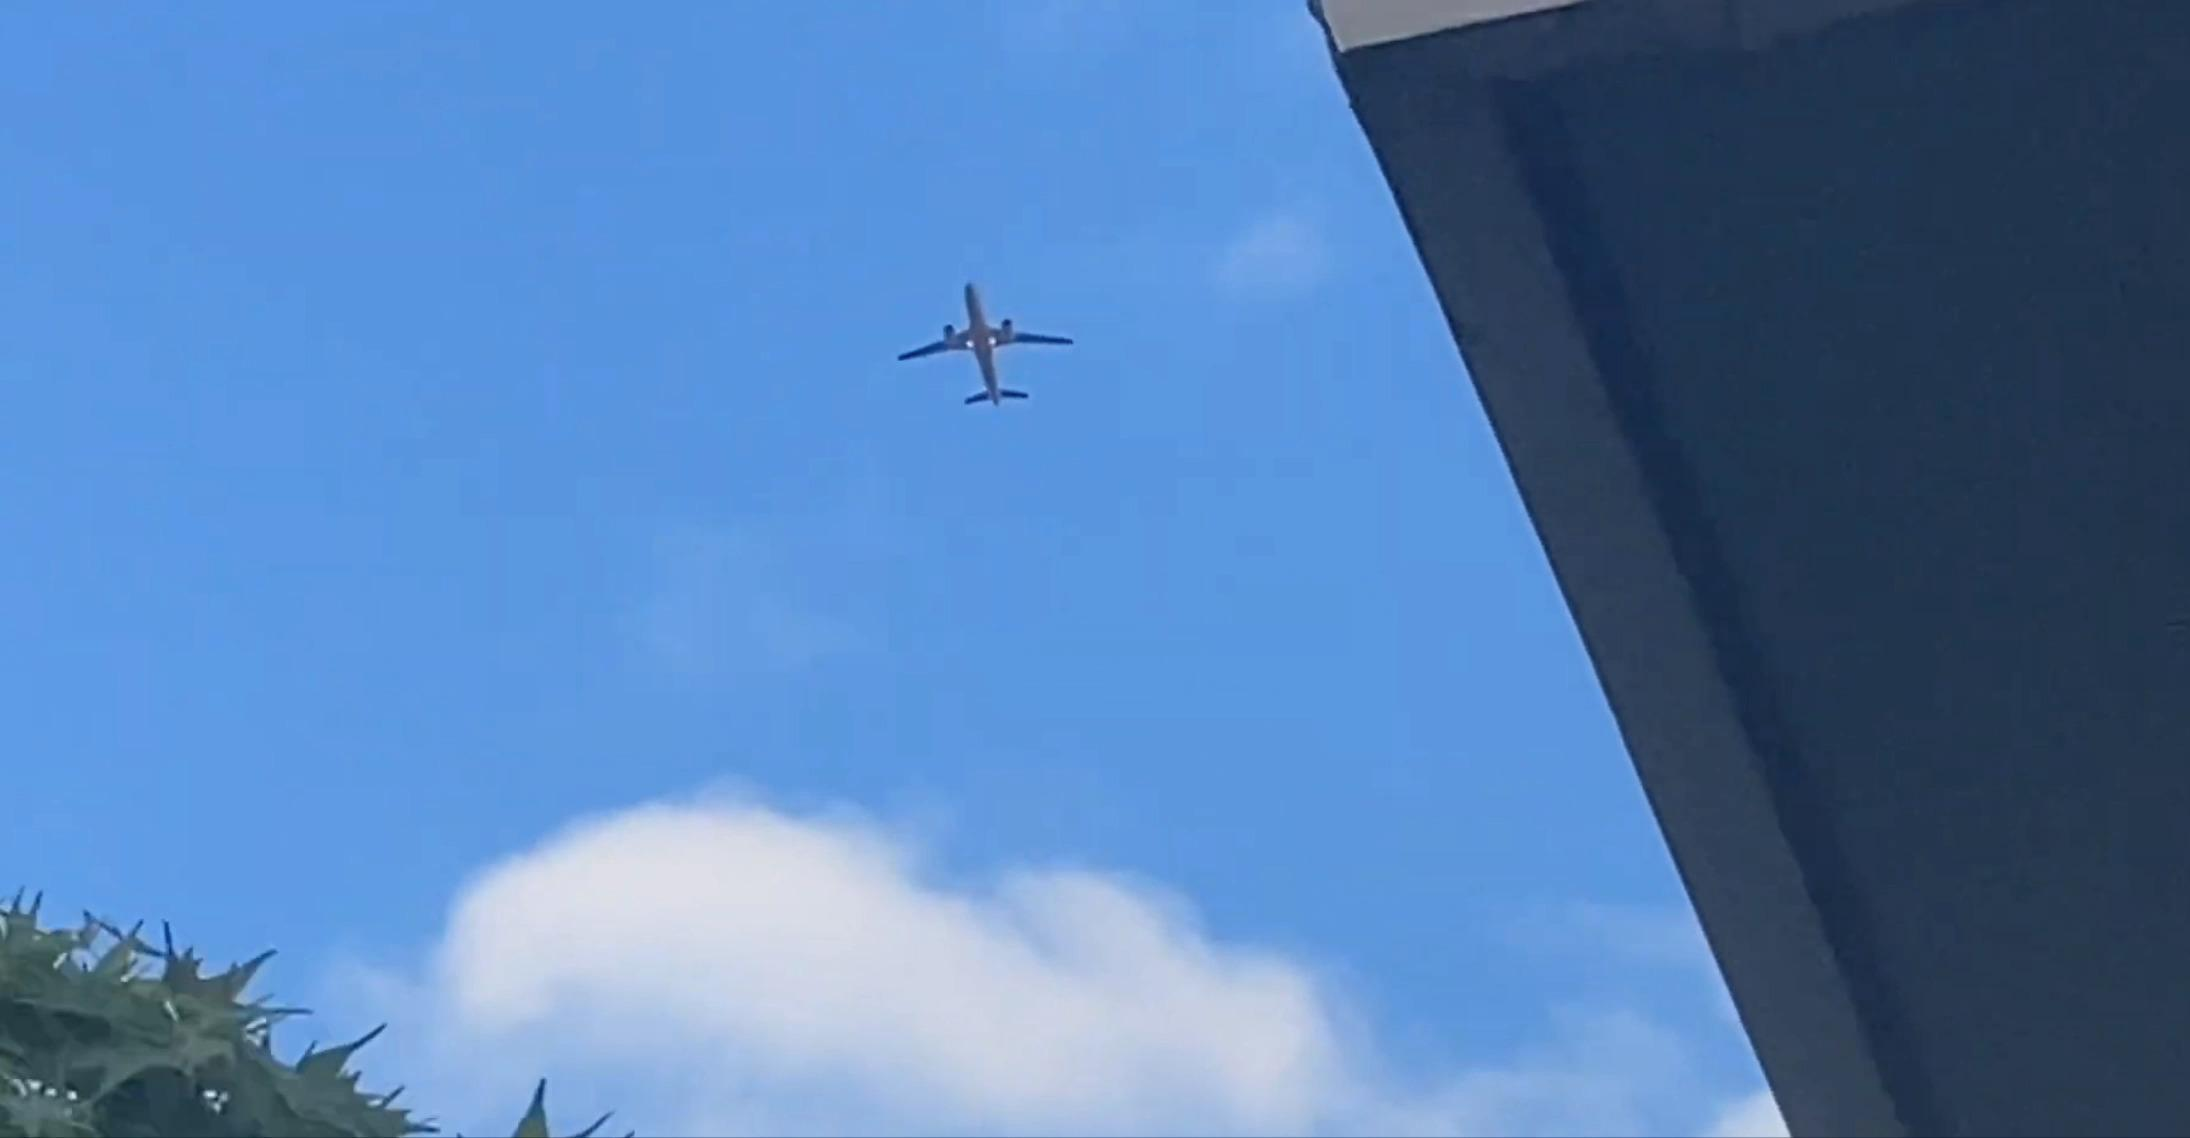Plane: (852, 266, 1086, 404)
